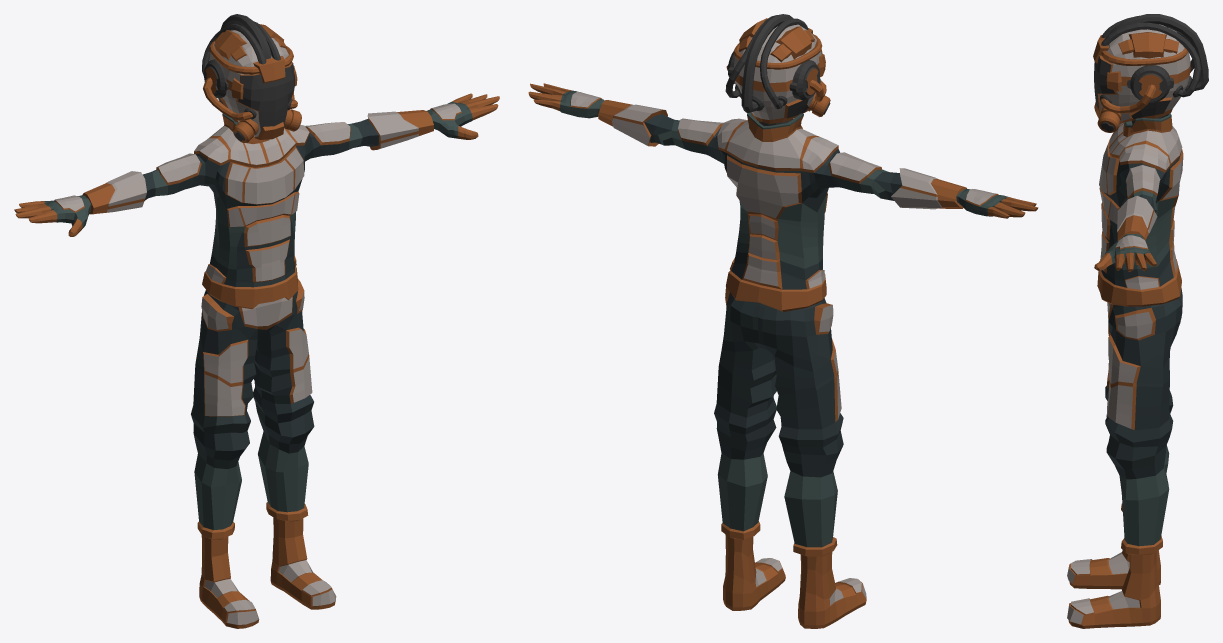
File: astronaut_(1).glb
3 renders of one model, left to right at view 1: azimuth 30°, elevation 25°; view 2: azimuth 150°, elevation 25°; view 3: azimuth 270°, elevation 25°, orthographic. The views are drawn at different scales.
Parts seen in each view (by area): view 1: SpaceSuit_Body_47a26f, SpaceSuit_Legs_bce4e3, SpaceSuit_Body_4d48ff, SpaceSuit_Legs_5c47e6, SpaceSuit_Legs_6f37d7, SpaceSuit_Feet_b3d15e, SpaceSuit_Body, SpaceSuit_Head_4f4548, SpaceSuit_Head_baddbb, SpaceSuit_Body_6139be, SpaceSuit_Legs_d3c291, SpaceSuit_Feet_49276d (+1 smaller); view 2: SpaceSuit_Legs_bce4e3, SpaceSuit_Body_47a26f, SpaceSuit_Body_4d48ff, SpaceSuit_Legs_5c47e6, SpaceSuit_Feet_b3d15e, SpaceSuit_Body_6139be, SpaceSuit_Body, SpaceSuit_Head_4f4548, SpaceSuit_Head_baddbb, SpaceSuit_Head_295fa9, SpaceSuit_Legs_d3c291; view 3: SpaceSuit_Legs_bce4e3, SpaceSuit_Body_47a26f, SpaceSuit_Body_4d48ff, SpaceSuit_Feet_b3d15e, SpaceSuit_Head_4f4548, SpaceSuit_Head_baddbb, SpaceSuit_Legs_5c47e6, SpaceSuit_Legs_6f37d7, SpaceSuit_Body_6139be, SpaceSuit_Body, SpaceSuit_Head_295fa9, SpaceSuit_Feet_49276d (+1 smaller).
Part boxes in pixels (left/top/right/bottom): SpaceSuit_Body_47a26f: left=55, top=103, right=461, bottom=283; SpaceSuit_Legs_bce4e3: left=191, top=290, right=314, bottom=469; SpaceSuit_Body_4d48ff: left=14, top=93, right=499, bottom=308; SpaceSuit_Legs_5c47e6: left=194, top=431, right=308, bottom=529; SpaceSuit_Legs_6f37d7: left=201, top=290, right=312, bottom=415; SpaceSuit_Feet_b3d15e: left=199, top=517, right=335, bottom=628; SpaceSuit_Body: left=143, top=119, right=378, bottom=287; SpaceSuit_Head_4f4548: left=202, top=14, right=294, bottom=141; SpaceSuit_Head_baddbb: left=203, top=24, right=301, bottom=142; SpaceSuit_Body_6139be: left=44, top=101, right=472, bottom=269; SpaceSuit_Legs_d3c291: left=197, top=278, right=309, bottom=539; SpaceSuit_Feet_49276d: left=205, top=560, right=336, bottom=624; SpaceSuit_Legs_bce4e3: left=714, top=292, right=843, bottom=477; SpaceSuit_Body_47a26f: left=571, top=91, right=997, bottom=288; SpaceSuit_Body_4d48ff: left=528, top=83, right=1038, bottom=311; SpaceSuit_Legs_5c47e6: left=717, top=453, right=837, bottom=547; SpaceSuit_Feet_b3d15e: left=723, top=534, right=866, bottom=628; SpaceSuit_Body_6139be: left=559, top=90, right=1007, bottom=268; SpaceSuit_Body: left=644, top=114, right=902, bottom=289; SpaceSuit_Head_4f4548: left=725, top=14, right=830, bottom=126; SpaceSuit_Head_baddbb: left=726, top=18, right=830, bottom=123; SpaceSuit_Head_295fa9: left=733, top=24, right=821, bottom=119; SpaceSuit_Legs_d3c291: left=721, top=287, right=838, bottom=556; SpaceSuit_Legs_bce4e3: left=1105, top=288, right=1182, bottom=479; SpaceSuit_Body_47a26f: left=1099, top=123, right=1183, bottom=289; SpaceSuit_Body_4d48ff: left=1094, top=117, right=1183, bottom=306; SpaceSuit_Feet_b3d15e: left=1068, top=550, right=1160, bottom=628; SpaceSuit_Head_4f4548: left=1094, top=14, right=1208, bottom=131; SpaceSuit_Head_baddbb: left=1093, top=32, right=1190, bottom=132; SpaceSuit_Legs_5c47e6: left=1119, top=445, right=1169, bottom=546; SpaceSuit_Legs_6f37d7: left=1107, top=302, right=1152, bottom=428; SpaceSuit_Body_6139be: left=1105, top=113, right=1175, bottom=269; SpaceSuit_Body: left=1101, top=151, right=1181, bottom=287; SpaceSuit_Head_295fa9: left=1099, top=24, right=1190, bottom=121; SpaceSuit_Feet_49276d: left=1067, top=552, right=1140, bottom=624.
Bounding box in the file's own units: 1.68 × 1.89 × 0.4128.
